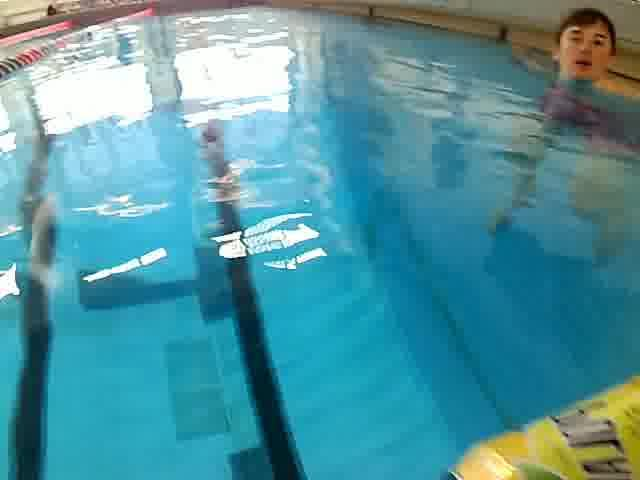Can: (436, 354, 639, 480)
